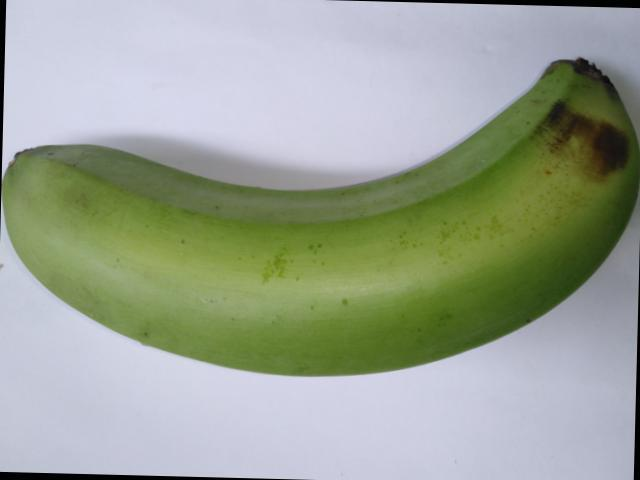freshunripe: (0, 44, 639, 386)
